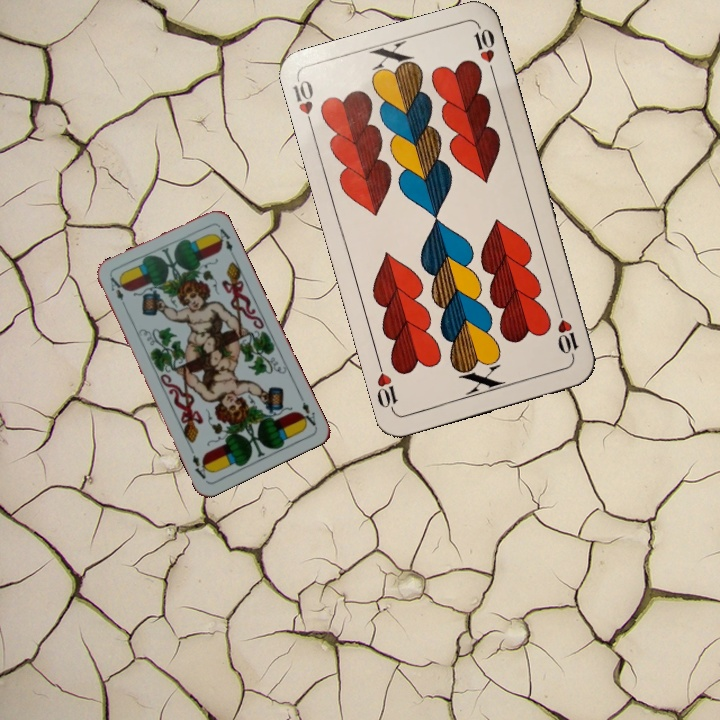EA: (106, 273, 129, 311), (296, 391, 318, 429)
H10: (553, 303, 582, 361), (289, 75, 317, 134)
